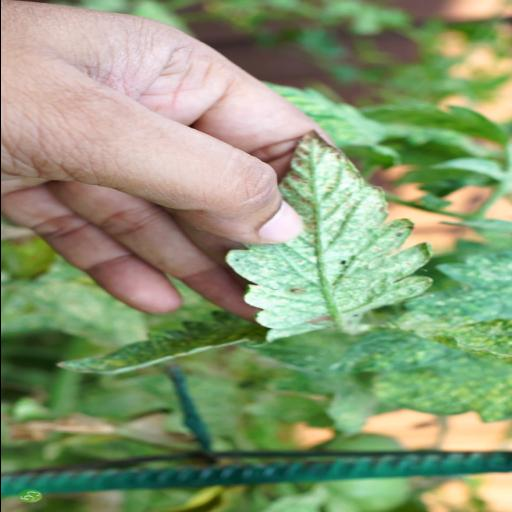Spider Mites: (222, 130, 434, 344), (50, 308, 264, 378)
